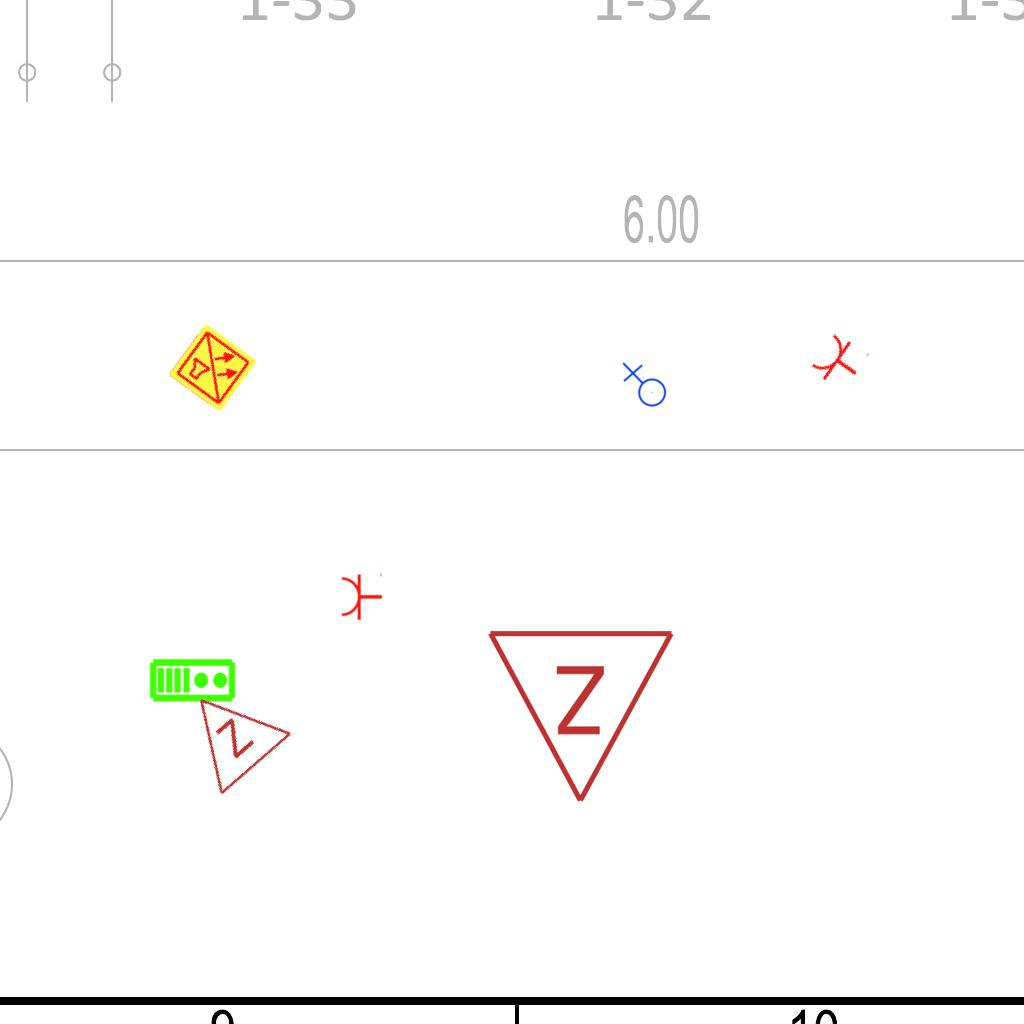Elektroanschluss_allgemein_230V_Geraeteanschlussdose_230V: (619, 361, 668, 412)
Gegensprechanlage_mit_Video: (149, 656, 237, 703)
OKW_Multisensormelder_(Kombination_optischer_Rauch-Kahlenmonoxid_Waerme-Melder): (166, 321, 260, 415)
Schukosteckdose_einfach: (807, 328, 872, 394), (340, 571, 383, 621)
Zimmersignalleuchte: (485, 616, 681, 816), (158, 663, 298, 803)
